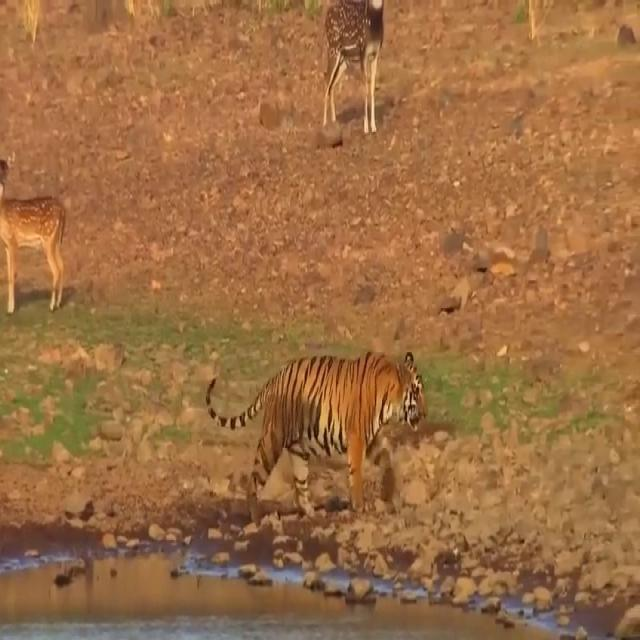tiger: (206, 344, 429, 517)
